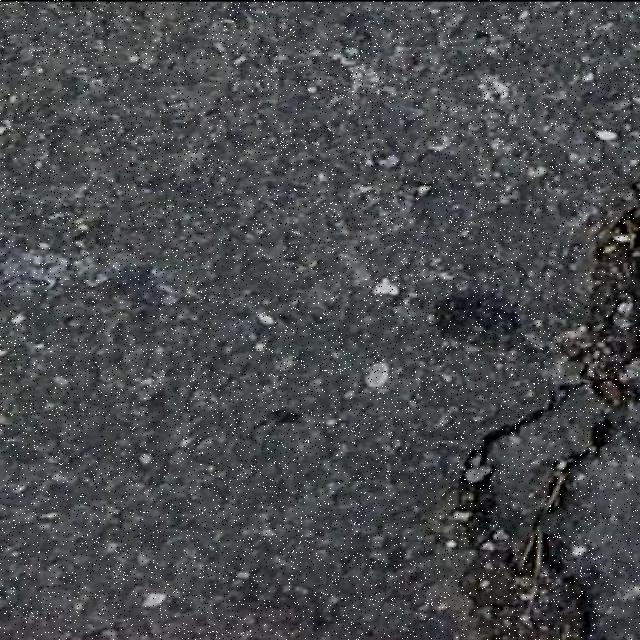Crack: (442, 180, 640, 640), (442, 420, 609, 640), (541, 420, 607, 512)
